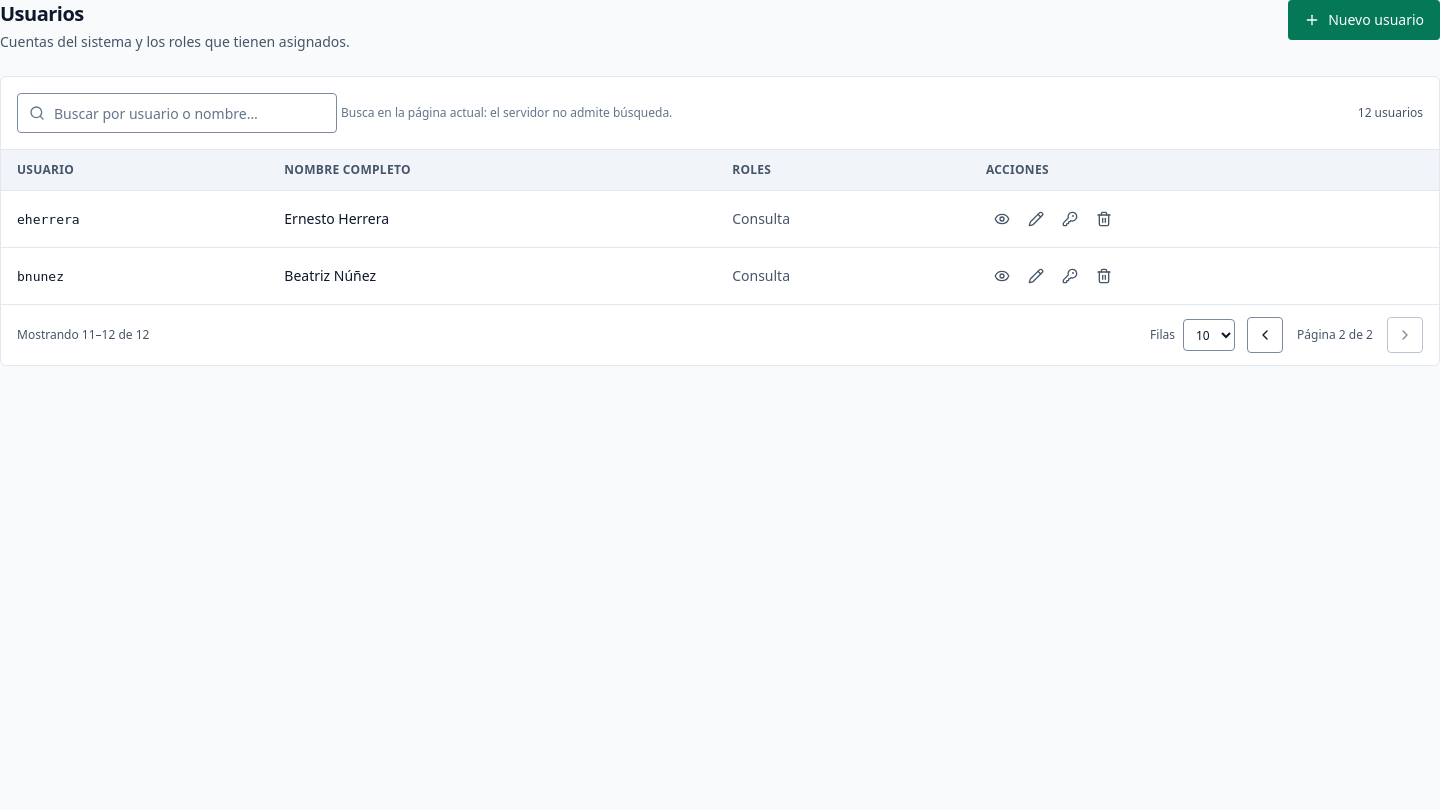
Test: UsersPage › elimina un usuario tras confirmar
Expected: the text "12 usuarios" is shown, [1358,105,1423,121]
What coordinates should you click on to do the following:
click the button named "Eliminar bnunez"
I would click on:
 (1104, 276)
Its box is [1088,260,1120,292].
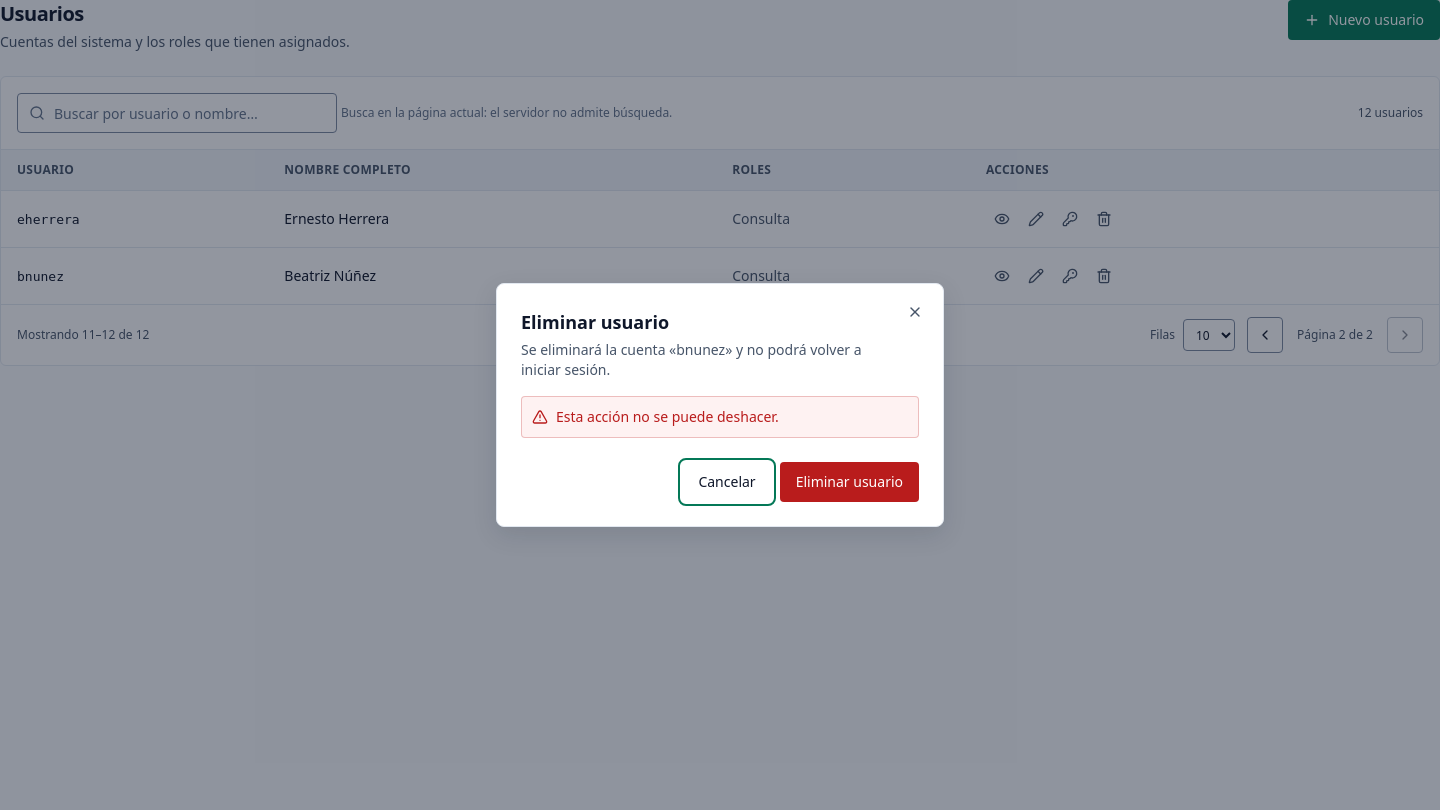
What coordinates should you click on to do the following:
click the button "Eliminar usuario"
I would click on:
 (849, 482)
Its box is [780,462,919,502].
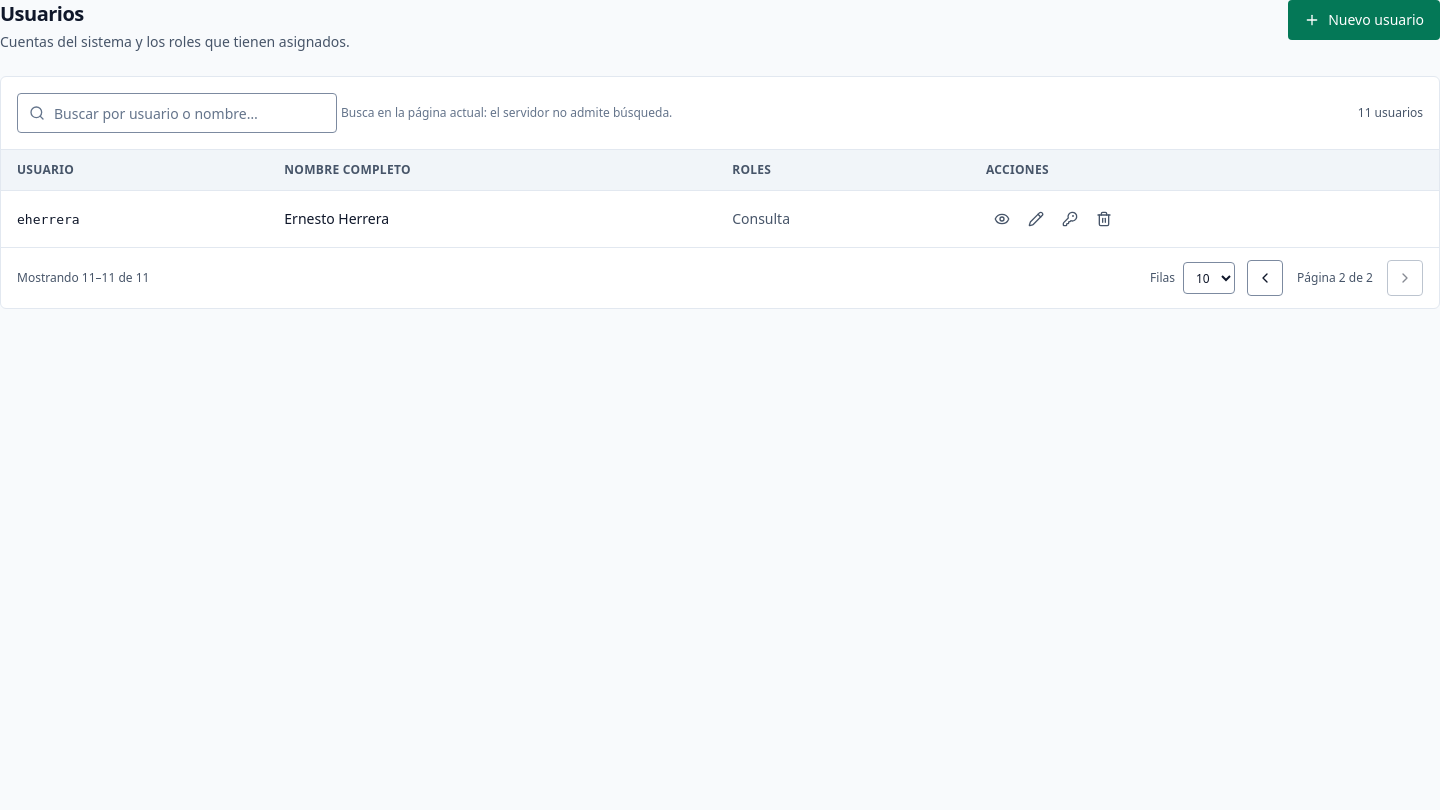
Result: the text "11 usuarios" is shown at [1358,105,1423,121]
